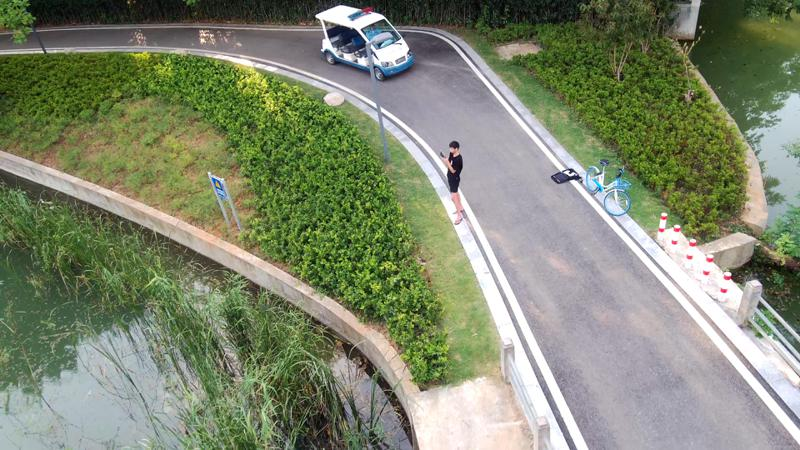passerby: (439, 139, 466, 226)
